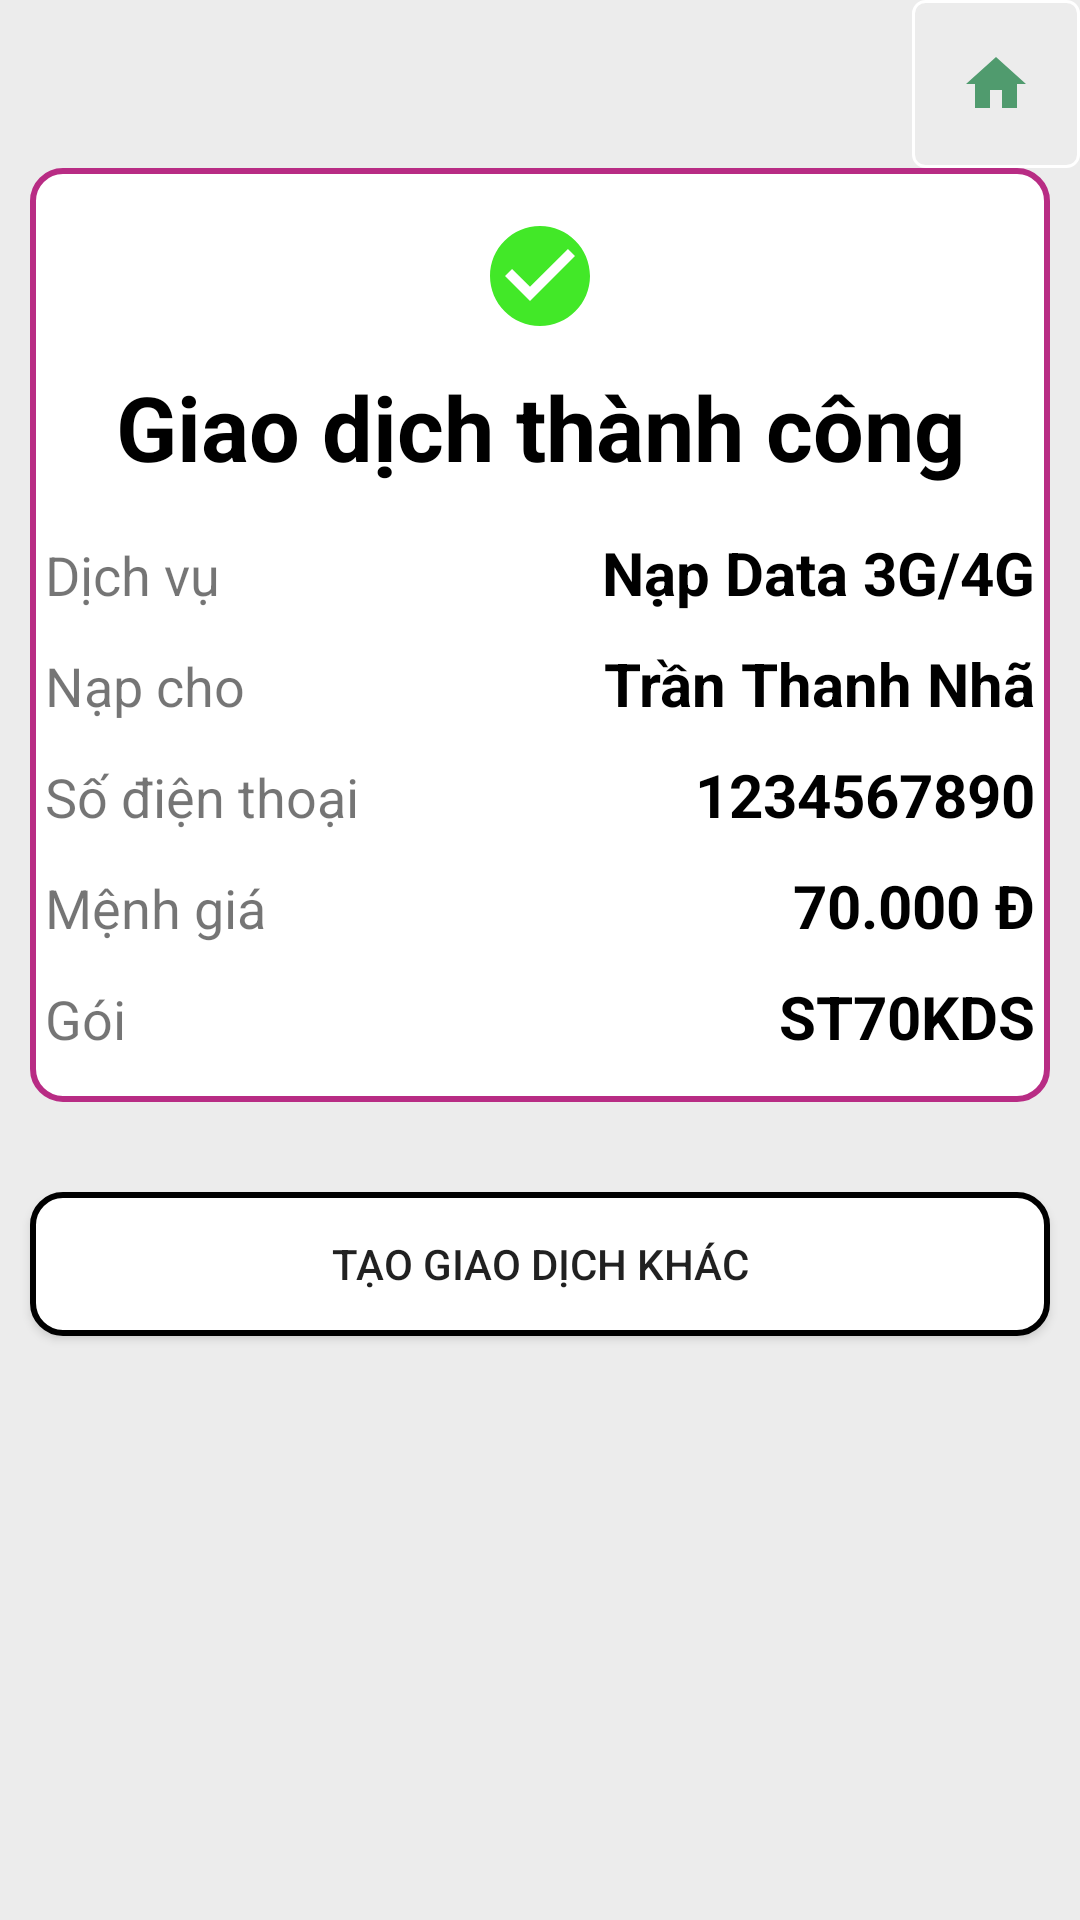

Icon bounding boxes for this 1080×1920 phone screenshot, format [left=x1, top=y1, right=x2, bottom=y2]:
check circle: [left=490, top=226, right=590, bottom=326]
Quay lại trang chủ: [left=966, top=57, right=1026, bottom=108]
